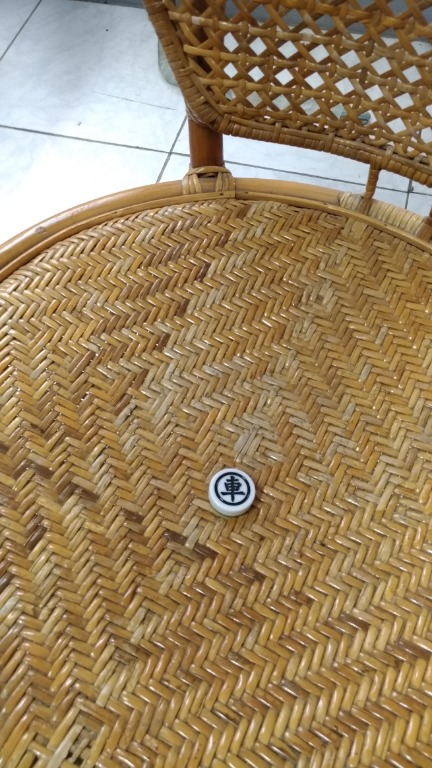b-king: (199, 456, 282, 526)
